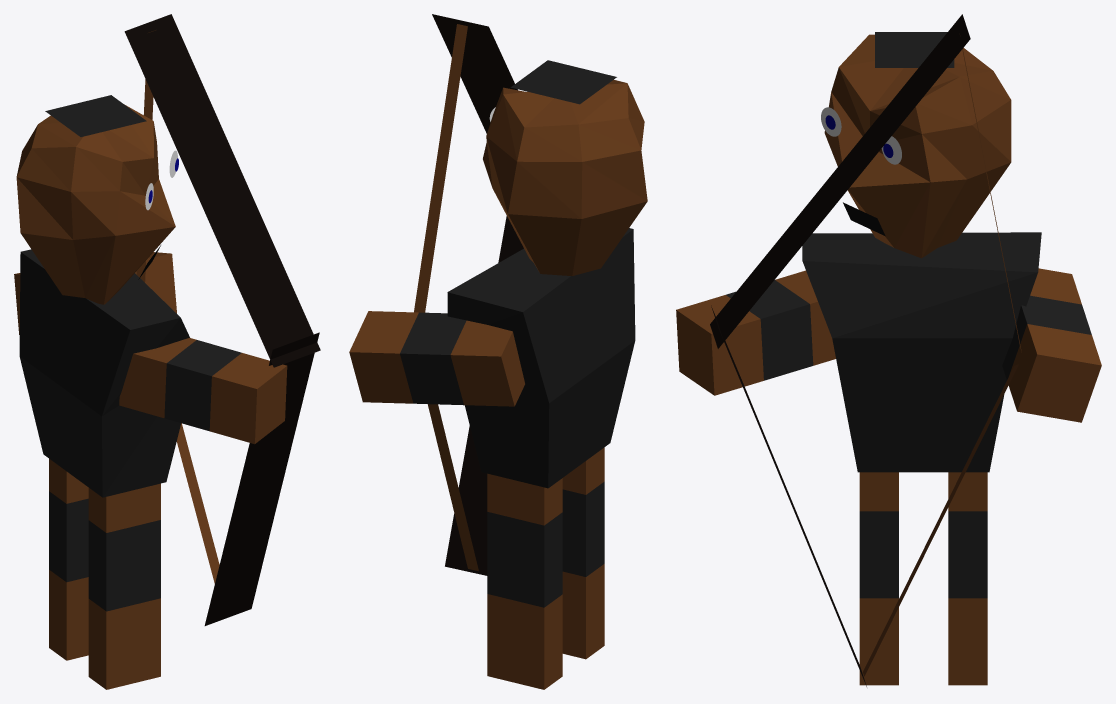
The model's file is archer1f.obj.
3 views of the same model, side by side, from view 1: azimuth 30°, elevation 25°; view 2: azimuth 150°, elevation 25°; view 3: azimuth 270°, elevation 25° (orthographic). The views are drawn at different scales.
Parts seen in each view (by area): view 1: Cube.001, Cube, Plane.002_Plane.003, Cube.004, Cube.003, Plane.001_Plane.002, Cube.005, Plane.004_Plane.001, Plane.003_Plane.004, Cube.002; view 2: Cube.001, Cube, Cube.005, Cube.002, Cube.004, Plane.003_Plane.004, Plane.001_Plane.002, Plane.002_Plane.003, Plane.004_Plane.001; view 3: Cube.001, Cube, Cube.003, Cube.002, Plane.002_Plane.003, Cube.005, Cube.004, Plane.004_Plane.001, Plane.003_Plane.004, Plane.001_Plane.002.
Boxes of the visible parts, x1,y1,x2,y2 form: Cube.001: (19, 249, 189, 497); Cube: (16, 104, 175, 304); Plane.002_Plane.003: (124, 14, 320, 367); Cube.004: (88, 483, 160, 689); Cube.003: (119, 337, 287, 444); Plane.001_Plane.002: (204, 332, 319, 625); Cube.005: (49, 458, 88, 660); Plane.004_Plane.001: (45, 95, 146, 136); Plane.003_Plane.004: (136, 30, 219, 583); Cube.002: (14, 252, 176, 334); Cube.001: (447, 228, 635, 488); Cube: (483, 80, 647, 275); Cube.005: (487, 473, 562, 689); Cube.002: (349, 311, 524, 406); Cube.004: (562, 447, 604, 659); Plane.003_Plane.004: (414, 24, 478, 571); Plane.001_Plane.002: (445, 216, 523, 575); Plane.002_Plane.003: (432, 14, 517, 133); Plane.004_Plane.001: (510, 60, 616, 104); Cube.001: (802, 232, 1041, 472); Cube: (824, 34, 1011, 258); Cube.003: (676, 270, 835, 395); Cube.002: (1002, 268, 1101, 422); Plane.002_Plane.003: (710, 14, 970, 348); Cube.005: (948, 472, 987, 685); Cube.004: (859, 472, 898, 685); Plane.004_Plane.001: (875, 32, 954, 67); Plane.003_Plane.004: (863, 49, 1021, 676); Plane.001_Plane.002: (711, 305, 866, 686).
Size of the model in its own units: 2.42 by 6.6 by 3.75.
